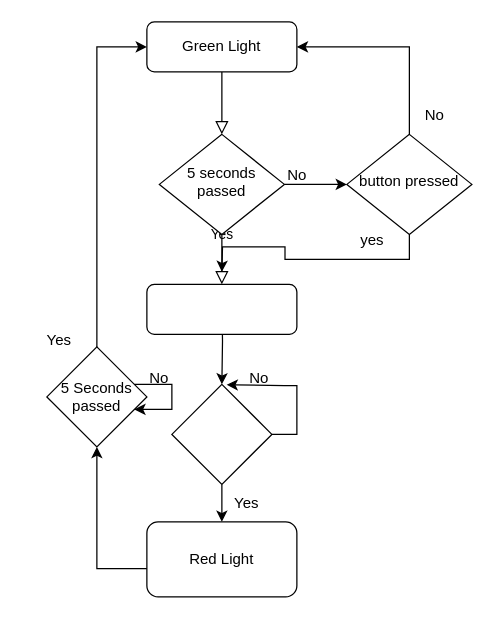
The diagram is 494 pixels wide and 619 high, and some of its shapes have lost their labels. The centre of each missing label's shape, as x and y in pixels:
"2 Seconds Passed" belongs at [221,433].
"Yellow Light" belongs at [221,308].
